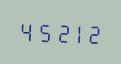five: (35, 19, 51, 43)
four: (18, 18, 34, 43)
one: (69, 20, 85, 44)
two: (52, 19, 68, 44), (86, 20, 102, 45)
